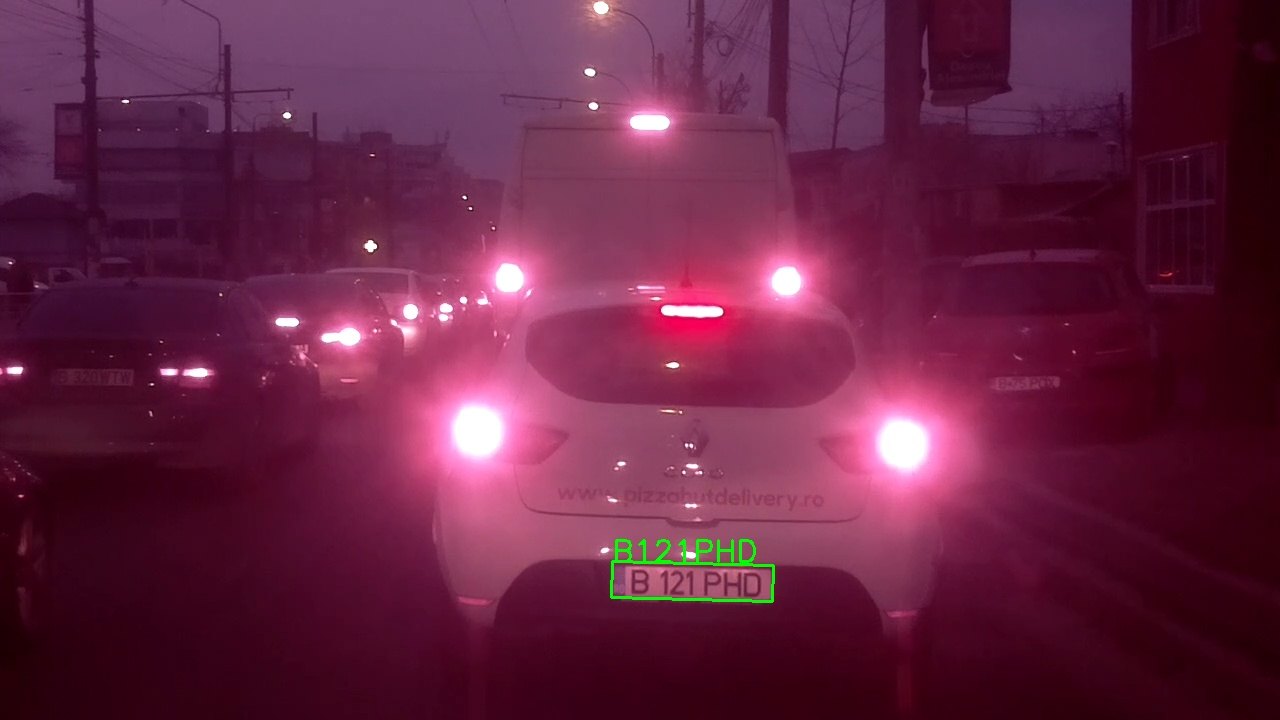license-plate: (611, 560, 774, 603)
